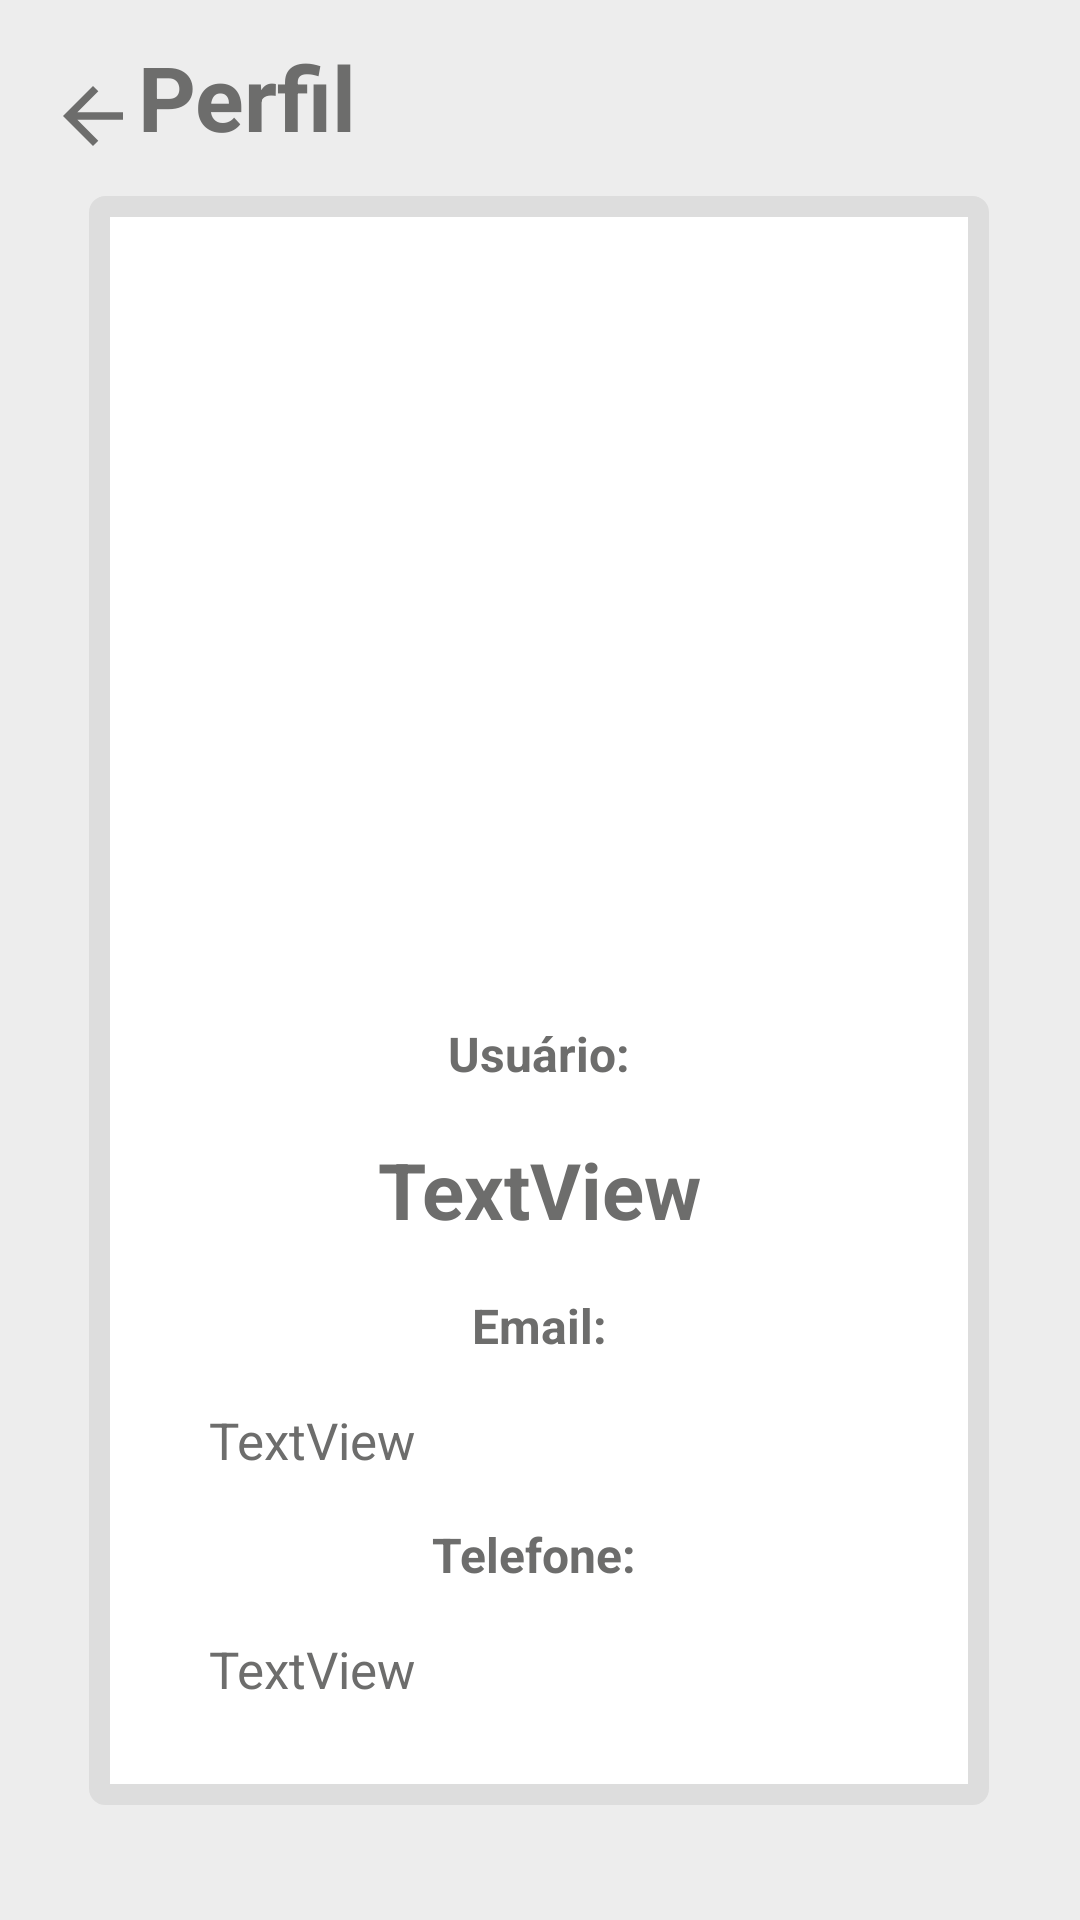

Point at icon controls on the screen. Image size 1080×1920, points as (x=x, y=y).
arrowback: (x=93, y=116)
